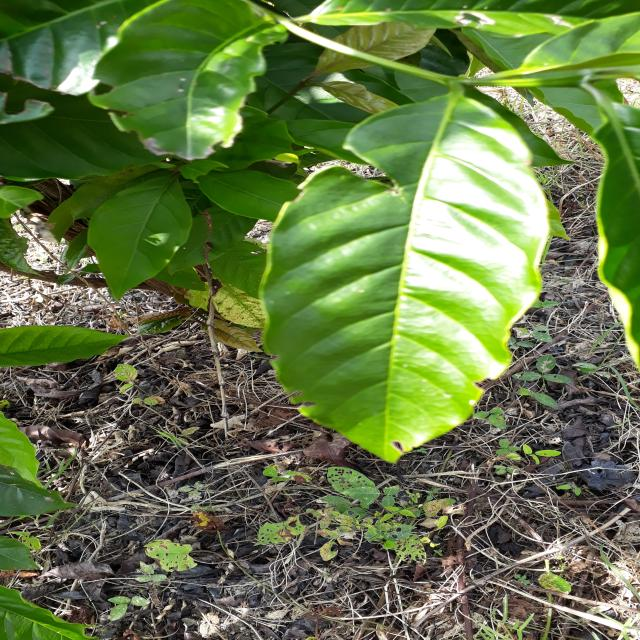Sanas: (265, 89, 554, 464)
